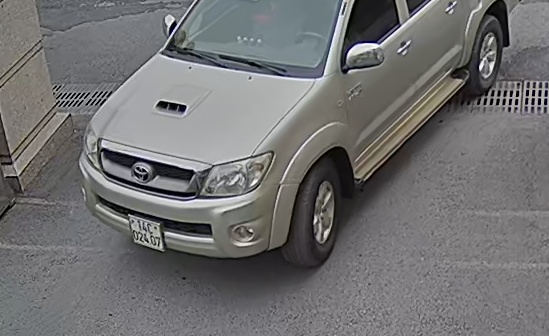vehicle plate: (125, 208, 170, 254)
